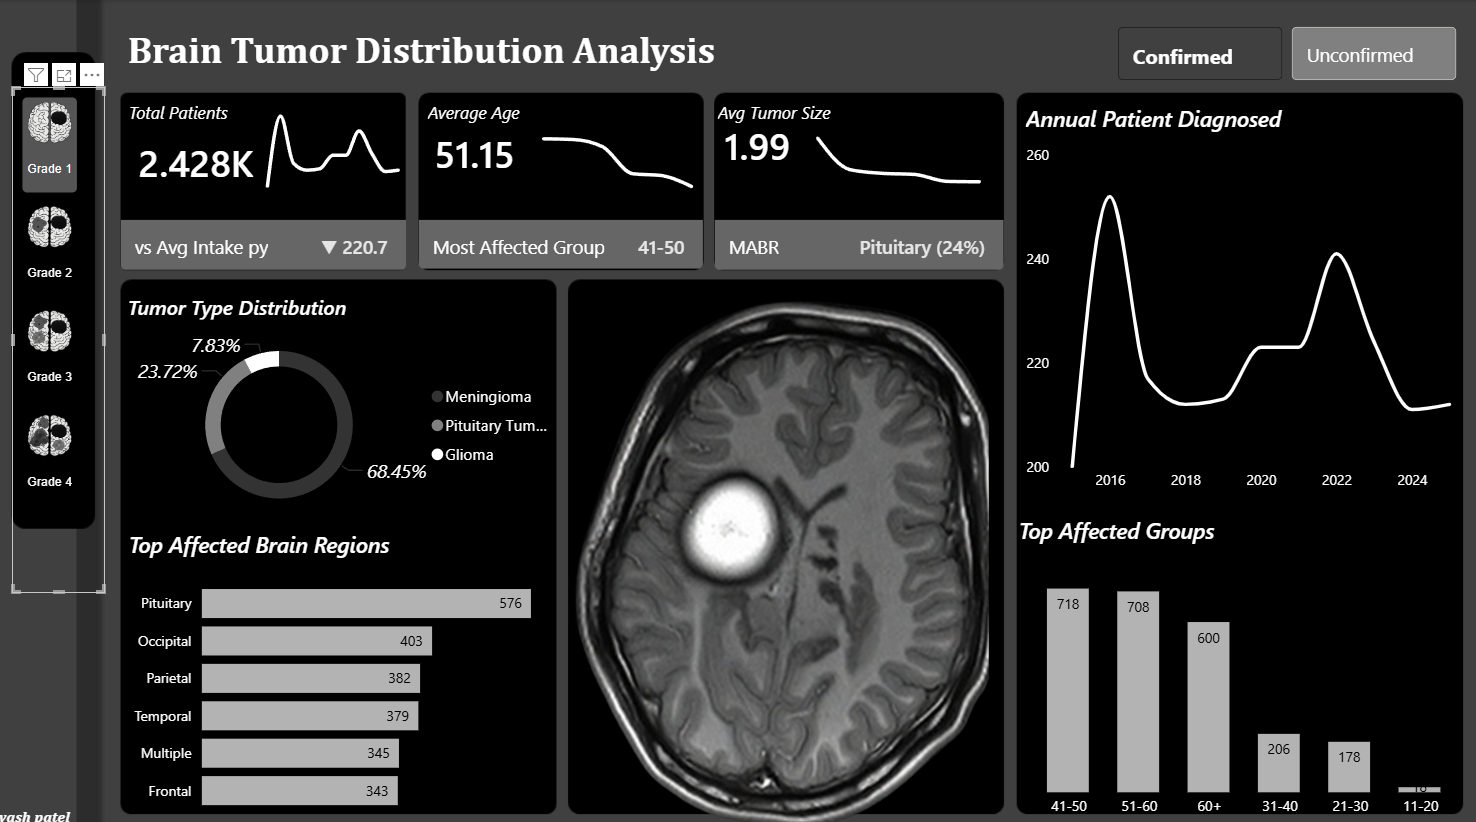

The page's visual inventory and layout, read from the dashboard file:
{"tool":"powerbi","page":{"name":"Page 1","canvas":[1280,720],"ordinal":0},"visuals":[{"type":"cardVisual","fields":{"Data":["Count(Brain Tumor Data.Patient ID)"]},"box":[96.7,90,186.7,96.7],"z":0},{"type":"lineChart","fields":{"Category":["Brain Tumor Data.Date of Diagnosis.Variation.Date Hierarchy.Year","Brain Tumor Data.Date of Diagnosis.Variation.Date Hierarchy.Quarter","Brain Tumor Data.Date of Diagnosis.Variation.Date Hierarchy.Month","Brain Tumor Data.Date of Diagnosis.Variation.Date Hierarchy.Day"],"Y":["CountNonNull(Brain Tumor Data.Patient ID)"]},"box":[221.4,77.1,142.9,90],"z":1000},{"type":"cardVisual","fields":{"Data":["CountNonNull(Brain Tumor Data.Patient ID)"]},"box":[86.2,109,294.3,148.1],"z":2000},{"type":"textbox","box":[112,82,127,33.5],"z":3000},{"type":"cardVisual","fields":{"Data":["Avg(Brain Tumor Data.Age)"]},"box":[351.7,81.7,186.7,96.7],"z":4000},{"type":"lineChart","fields":{"Y":["CountNonNull(Brain Tumor Data.Patient ID)"],"Category":["Brain Tumor Data.Age Group"]},"box":[460,101,158,67],"z":5000},{"type":"cardVisual","fields":{"Data":["CountNonNull(Brain Tumor Data.Patient ID)"]},"box":[343.3,108.6,293.3,147.6],"z":6000},{"type":"textbox","box":[370,81.7,127.5,34.2],"z":7000},{"type":"cardVisual","fields":{"Data":["Avg(Brain Tumor Data.Tumor Size (cm))"]},"box":[601.7,75,186.7,96.7],"z":8000},{"type":"lineChart","fields":{"Category":["Brain Tumor Data.Affected Brain Region"],"Y":["Sum(Brain Tumor Data.Tumor Size (cm))"]},"box":[695,101.7,171.7,66.7],"z":9000},{"type":"cardVisual","fields":{"Data":["CountNonNull(Brain Tumor Data.Patient ID)"]},"box":[598.5,108.5,297.7,148.5],"z":10000},{"type":"textbox","box":[620,81.7,126.7,33.3],"z":11000},{"type":"advancedSlicerVisual","fields":{"Values":["Brain Tumor Data.Histology Confirmation"]},"box":[965,18.3,303.3,56.7],"z":12000},{"type":"ChicletSlicer1448559807354","fields":{"Category":["Tumor Images.Column1"],"Image":["Tumor Images.Column3"]},"box":[16.7,75,80,436.7],"z":13000},{"type":"imageDB603108E3FF4EBFB8047F5653368E8C","fields":{"imageUrl":["Tumor Images.Column2"]},"box":[495.7,247.1,370,472.9],"z":14000},{"type":"donutChart","title":"Tumor Type Distribution","fields":{"Category":["Brain Tumor Data.Tumor Type"],"Y":["CountNonNull(Brain Tumor Data.Patient ID)"]},"box":[111.4,252.9,382.9,204.3],"z":15000},{"type":"barChart","title":"Top Affected Brain Regions","fields":{"Category":["Brain Tumor Data.Affected Brain Region"],"Y":["CountNonNull(Brain Tumor Data.Patient ID)"]},"box":[112,457,383,256],"z":16000},{"type":"lineChart","title":"Annual Patient Diagnosed","fields":{"Category":["Brain Tumor Data.Date of Diagnosis.Variation.Date Hierarchy.Year","Brain Tumor Data.Date of Diagnosis.Variation.Date Hierarchy.Quarter","Brain Tumor Data.Date of Diagnosis.Variation.Date Hierarchy.Month","Brain Tumor Data.Date of Diagnosis.Variation.Date Hierarchy.Day"],"Y":["CountNonNull(Brain Tumor Data.Patient ID)"]},"box":[885.7,90,388.6,342.9],"z":17000},{"type":"clusteredColumnChart","title":"Top Affected Groups","fields":{"Category":["Brain Tumor Data.Age Group"],"Y":["CountNonNull(Brain Tumor Data.Patient ID)"]},"box":[880,445,400,268.3],"z":18000},{"type":"textbox","box":[111.4,18.6,551.4,67.1],"z":19000},{"type":"textbox","box":[0,690,75.5,30],"z":20000}]}

Visuals, with their boxes on the page's 1280x720 design canvas (x1, y1, x2, y2). These are canvas units, not pixel positions in the 1476x822 screenshot, which may show the page scaled, cropped or inside an application window:
cardVisual - Count(Brain Tumor Data.Patient ID): Rect(97, 90, 283, 187)
lineChart - Brain Tumor Data.Date of Diagnosis.Variation.Date Hierarchy.Year x Brain Tumor Data.Date of Diagnosis.Variation.Date Hierarchy.Quarter: Rect(221, 77, 364, 167)
cardVisual - CountNonNull(Brain Tumor Data.Patient ID): Rect(86, 109, 380, 257)
textbox: Rect(112, 82, 239, 116)
cardVisual - Avg(Brain Tumor Data.Age): Rect(352, 82, 538, 178)
lineChart - CountNonNull(Brain Tumor Data.Patient ID) x Brain Tumor Data.Age Group: Rect(460, 101, 618, 168)
cardVisual - CountNonNull(Brain Tumor Data.Patient ID): Rect(343, 109, 637, 256)
textbox: Rect(370, 82, 498, 116)
cardVisual - Avg(Brain Tumor Data.Tumor Size (cm)): Rect(602, 75, 788, 172)
lineChart - Brain Tumor Data.Affected Brain Region x Sum(Brain Tumor Data.Tumor Size (cm)): Rect(695, 102, 867, 168)
cardVisual - CountNonNull(Brain Tumor Data.Patient ID): Rect(598, 108, 896, 257)
textbox: Rect(620, 82, 747, 115)
advancedSlicerVisual - Brain Tumor Data.Histology Confirmation: Rect(965, 18, 1268, 75)
ChicletSlicer1448559807354 - Tumor Images.Column1 x Tumor Images.Column3: Rect(17, 75, 97, 512)
imageDB603108E3FF4EBFB8047F5653368E8C - Tumor Images.Column2: Rect(496, 247, 866, 720)
"Tumor Type Distribution" donutChart: Rect(111, 253, 494, 457)
"Top Affected Brain Regions" barChart: Rect(112, 457, 495, 713)
"Annual Patient Diagnosed" lineChart: Rect(886, 90, 1274, 433)
"Top Affected Groups" clusteredColumnChart: Rect(880, 445, 1280, 713)
textbox: Rect(111, 19, 663, 86)
textbox: Rect(0, 690, 76, 720)
